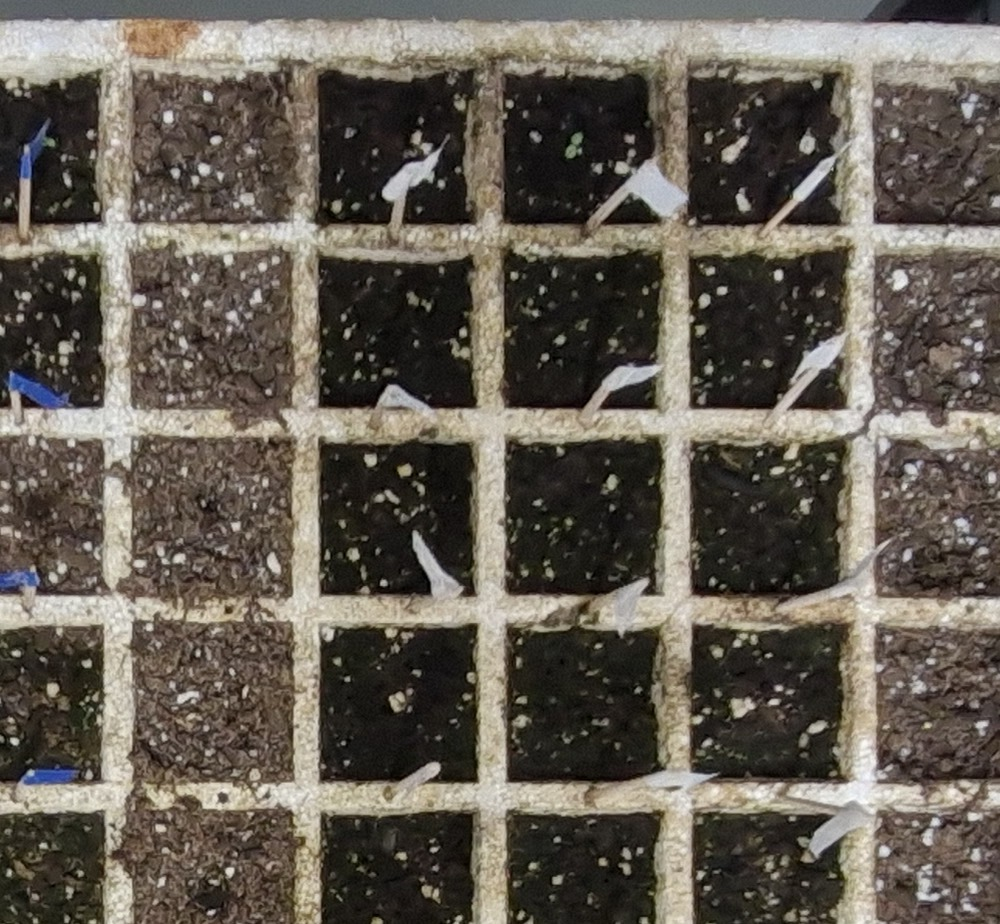Folha: (567, 145, 577, 158), (572, 133, 582, 145)
Germinacao: (565, 133, 583, 158)
